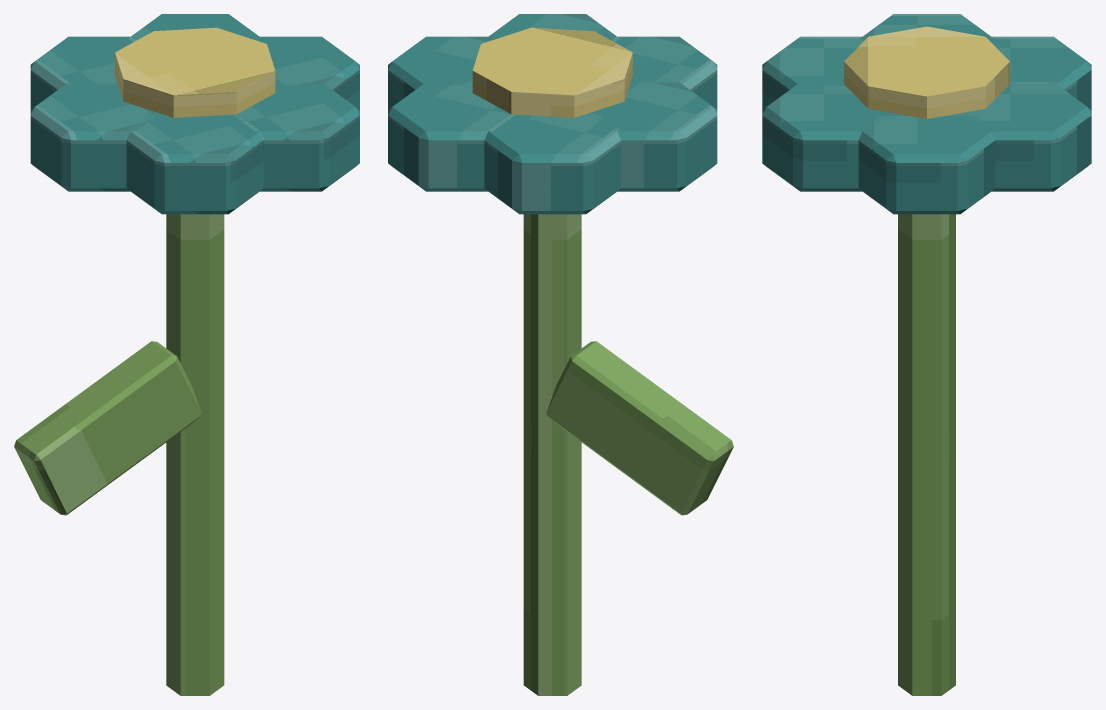
Rendered from flower_blue.glb.
The picture shows the model from 3 angles, left to right: view 1: azimuth 30°, elevation 25°; view 2: azimuth 150°, elevation 25°; view 3: azimuth 270°, elevation 25°; orthographic projection.
Parts seen in each view (by area): view 1: Stem, LeafL, Petal_4, FlowerCenter, Petal_3, Petal_5, Petal_0, Petal_2, Petal_1; view 2: Stem, LeafL, Petal_2, FlowerCenter, Petal_3, Petal_1, Petal_0, Petal_4, Petal_5; view 3: Stem, Petal_0, FlowerCenter, Petal_1, Petal_5, Petal_4, Petal_2, Petal_3.
Part boxes in pixels (bbox=[...]): Stem: bbox=[166, 214, 224, 695]; LeafL: bbox=[14, 341, 201, 515]; Petal_4: bbox=[126, 112, 263, 214]; FlowerCenter: bbox=[115, 27, 275, 117]; Petal_3: bbox=[30, 82, 159, 191]; Petal_5: bbox=[233, 82, 359, 191]; Petal_0: bbox=[252, 36, 359, 109]; Petal_2: bbox=[30, 36, 133, 109]; Petal_1: bbox=[128, 14, 258, 41]; Stem: bbox=[523, 214, 581, 695]; LeafL: bbox=[546, 341, 733, 515]; Petal_2: bbox=[484, 111, 621, 214]; FlowerCenter: bbox=[472, 27, 632, 117]; Petal_3: bbox=[589, 82, 717, 191]; Petal_1: bbox=[388, 82, 515, 191]; Petal_0: bbox=[388, 36, 495, 109]; Petal_4: bbox=[610, 36, 717, 109]; Petal_5: bbox=[489, 14, 619, 41]; Stem: bbox=[898, 214, 955, 695]; Petal_0: bbox=[858, 111, 995, 214]; FlowerCenter: bbox=[844, 26, 1009, 118]; Petal_1: bbox=[963, 82, 1091, 191]; Petal_5: bbox=[762, 82, 891, 191]; Petal_4: bbox=[762, 36, 865, 109]; Petal_2: bbox=[986, 36, 1091, 109]; Petal_3: bbox=[860, 14, 993, 40].
Bounding box in the file's own units: 0.4462 × 0.83 × 0.3972.
1 material, 1 textured.
